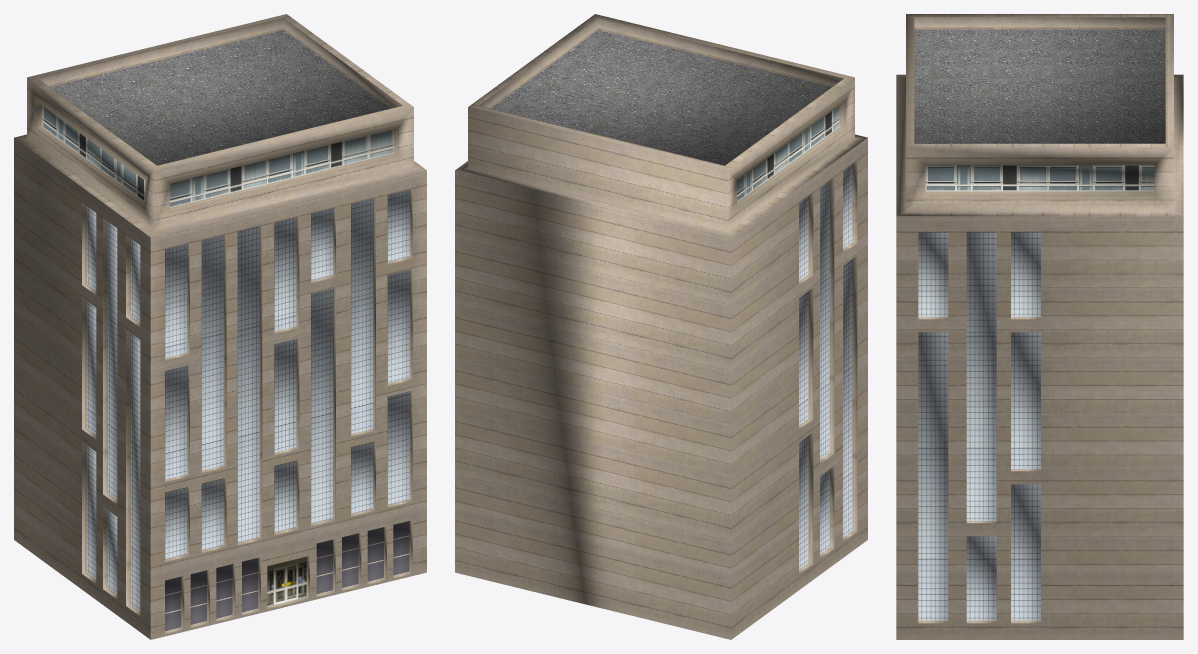
Rendered from Build11_fbx.fbx.
3 views of the same model, side by side, from view 1: azimuth 30°, elevation 25°; view 2: azimuth 150°, elevation 25°; view 3: azimuth 270°, elevation 25° (orthographic). The views are drawn at different scales.
Visible parts, largest first — view 1: Building11; view 2: Building11; view 3: Building11.
Part boxes in pixels (x1,y1,x2,y2): Building11: (14,14,426,639); Building11: (455,14,867,639); Building11: (896,14,1183,639).
Bounding box in the file's own units: 139 × 223 × 119.
